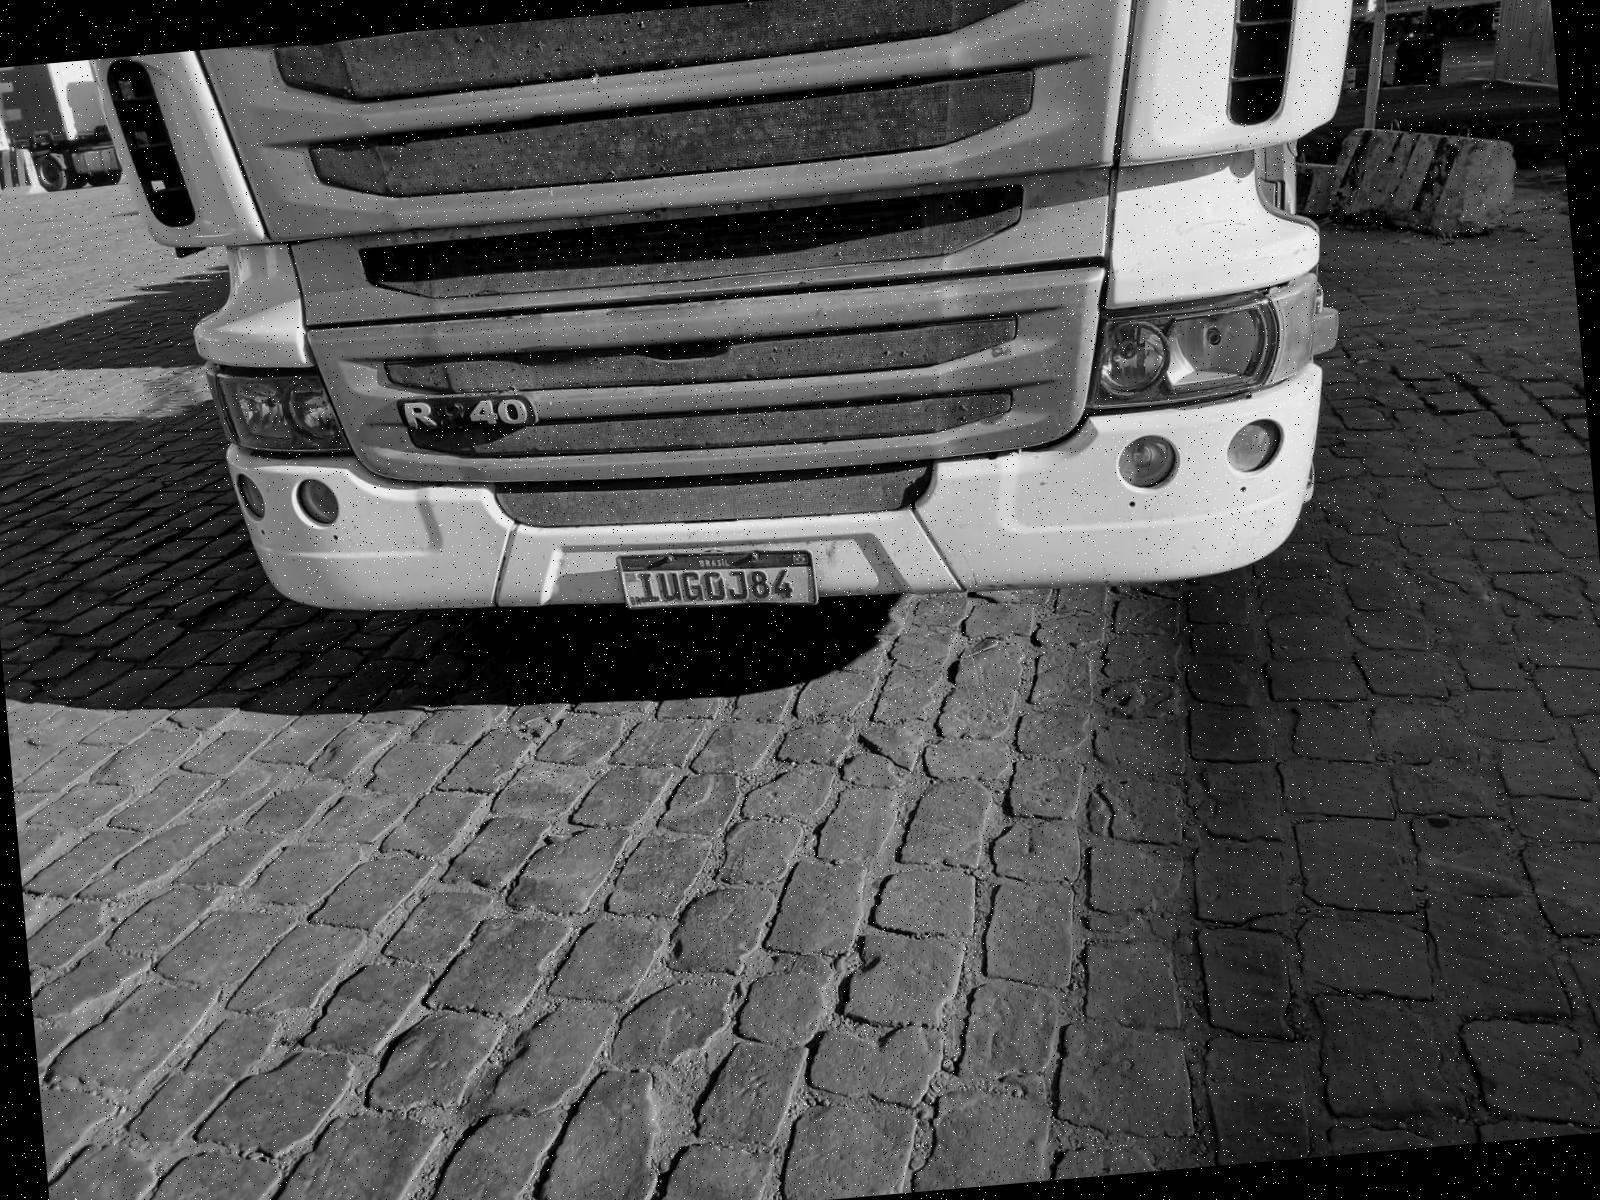placa_mercosul: (618, 551, 817, 608)
